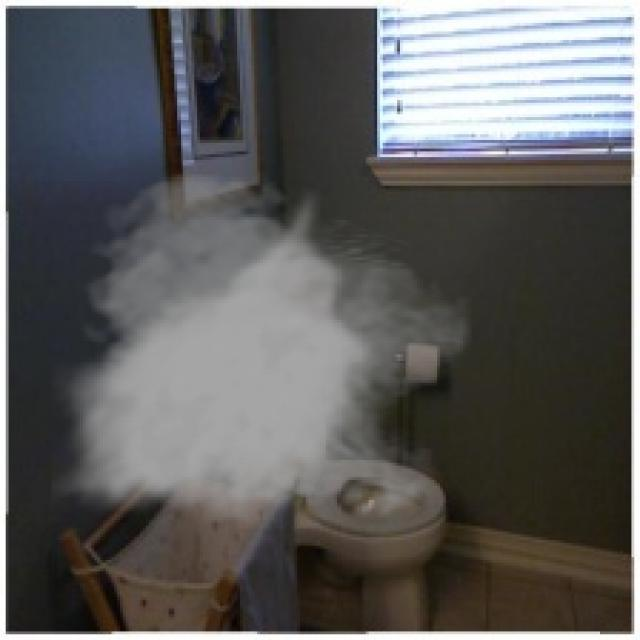Smoke: (51, 168, 472, 528)
